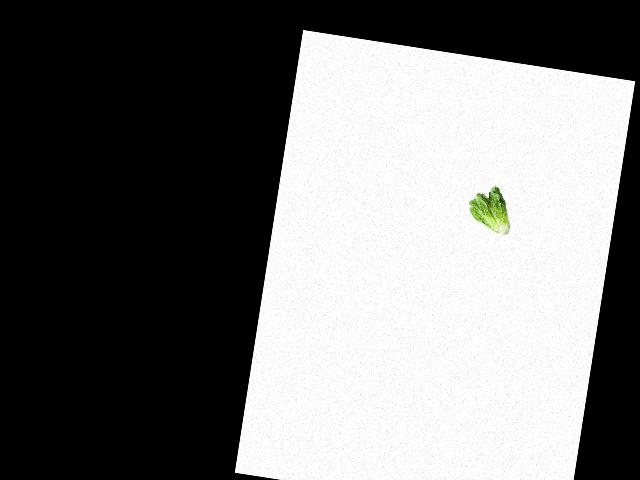lettuce: (458, 182, 516, 237)
